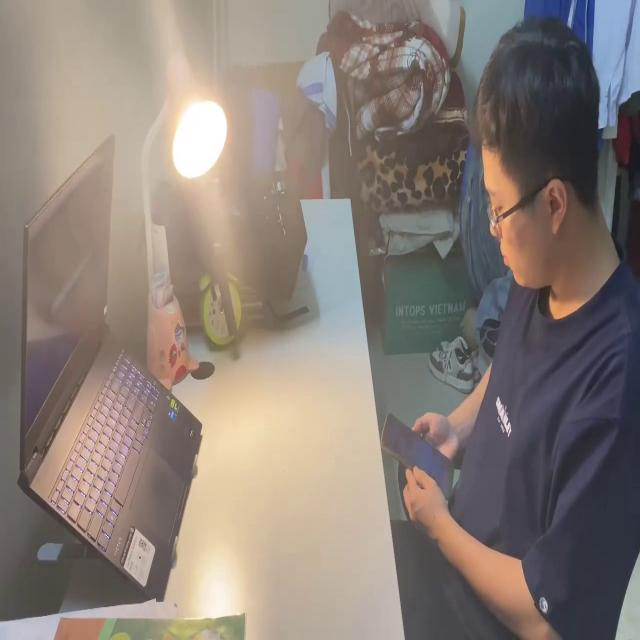book: (0, 597, 244, 640)
laptop: (13, 134, 202, 596)
phone: (381, 396, 456, 504)
student: (394, 14, 640, 640)
